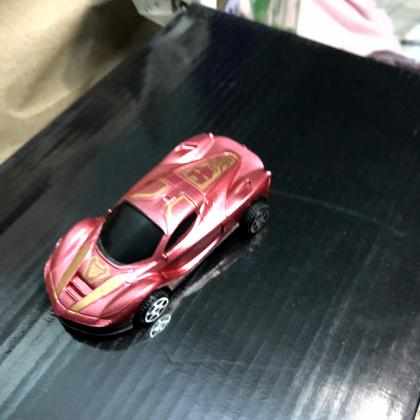Car: (42, 133, 273, 337)
